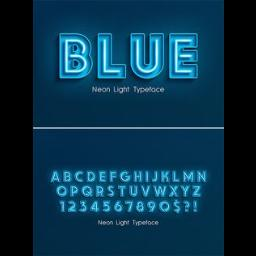a: (48, 168, 62, 184)
b: (54, 30, 94, 86), (60, 170, 72, 182)
c: (74, 172, 84, 182)
d: (84, 169, 94, 183)
e: (166, 26, 204, 94), (96, 172, 108, 182)
f: (109, 170, 119, 182)
h: (130, 170, 144, 182)
k: (159, 168, 171, 182)
l: (90, 26, 130, 84)
m: (180, 167, 196, 183)
n: (196, 165, 208, 183)
o: (52, 186, 70, 198)
u: (127, 26, 163, 80), (127, 185, 139, 195)
